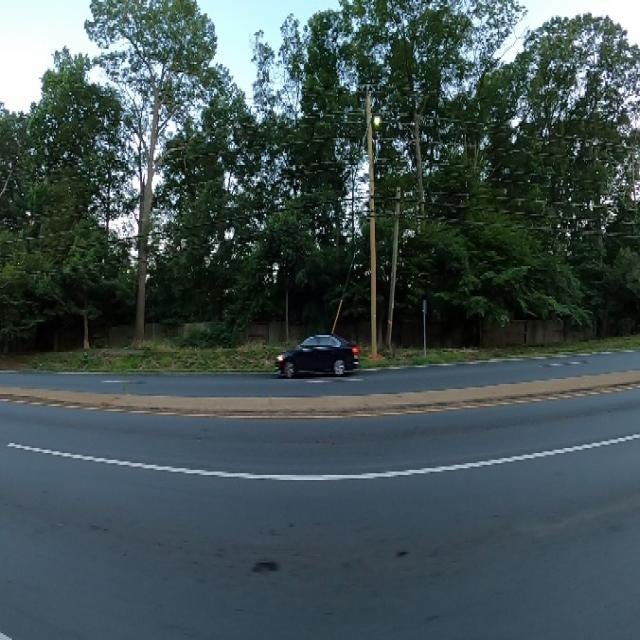car: (271, 323, 363, 384)
